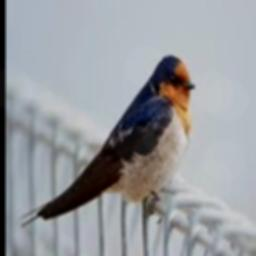Swallow: (19, 55, 195, 227)
